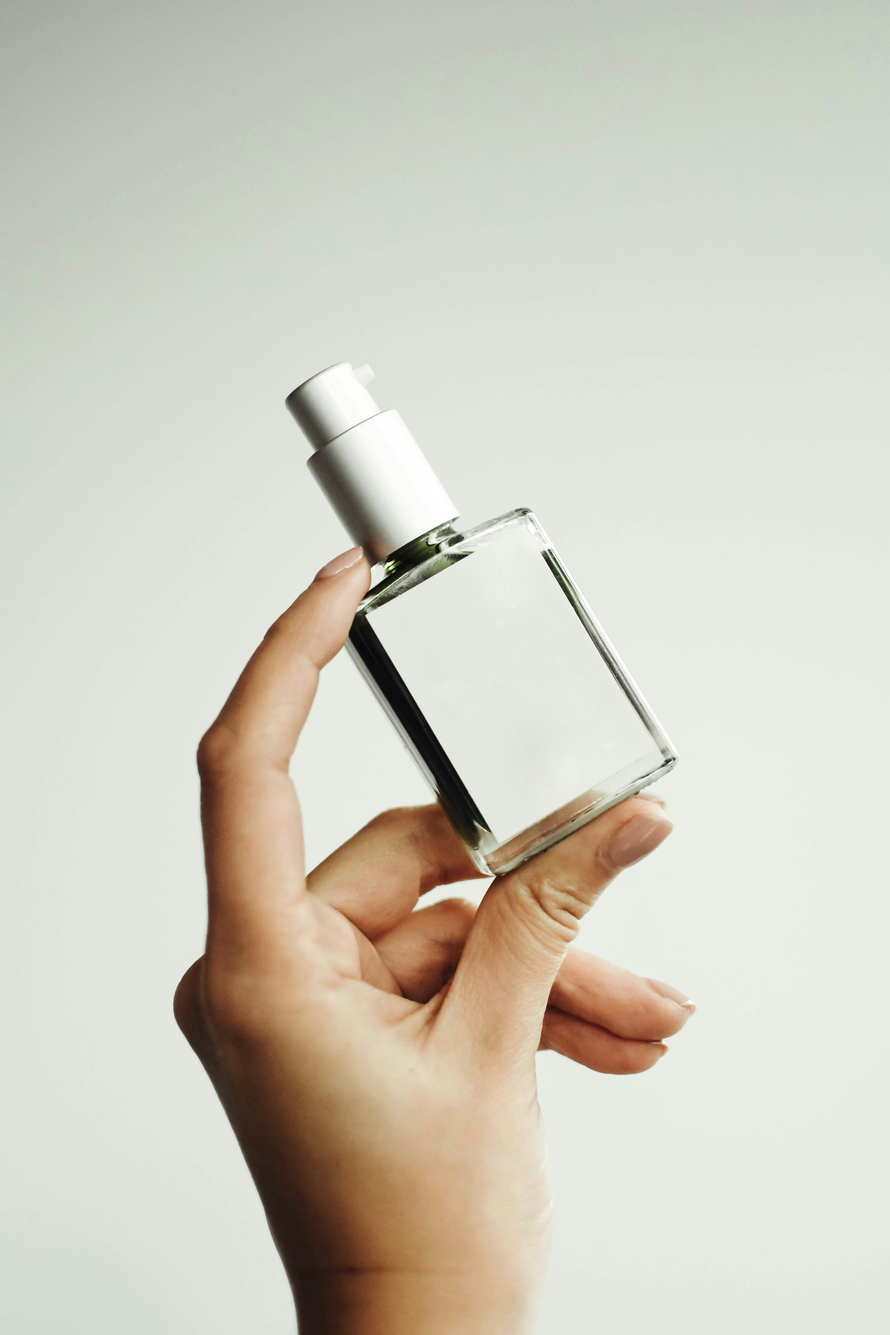Bottle-Detection: (230, 316, 722, 911)
